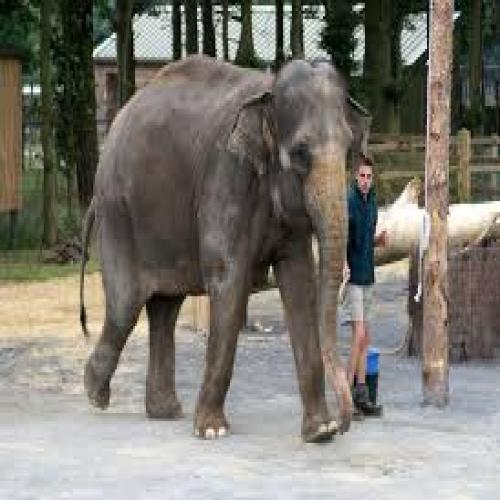asian_elephant-endangered: (78, 52, 356, 442)
